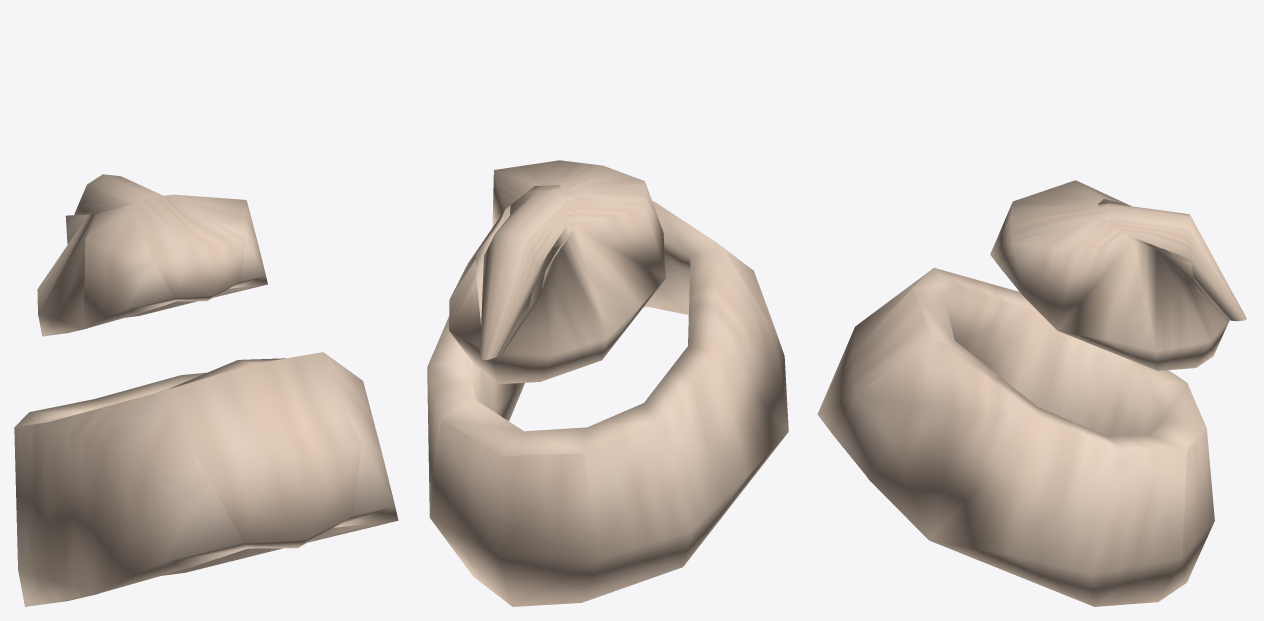
File: maya_f_2.dae
3 views of the same model, side by side, from view 1: azimuth 30°, elevation 25°; view 2: azimuth 150°, elevation 25°; view 3: azimuth 270°, elevation 25° (orthographic). The views are drawn at different scales.
Visible parts, largest first — view 1: faixa_grande_2; view 2: faixa_grande_2; view 3: faixa_grande_2.
Boxes of the visible parts, x1,y1,x2,y2 form: faixa_grande_2: (14,174,398,606); faixa_grande_2: (427,160,788,606); faixa_grande_2: (817,180,1246,606).
Bounding box in the file's own units: 0.4975 × 0.6657 × 0.9347.
